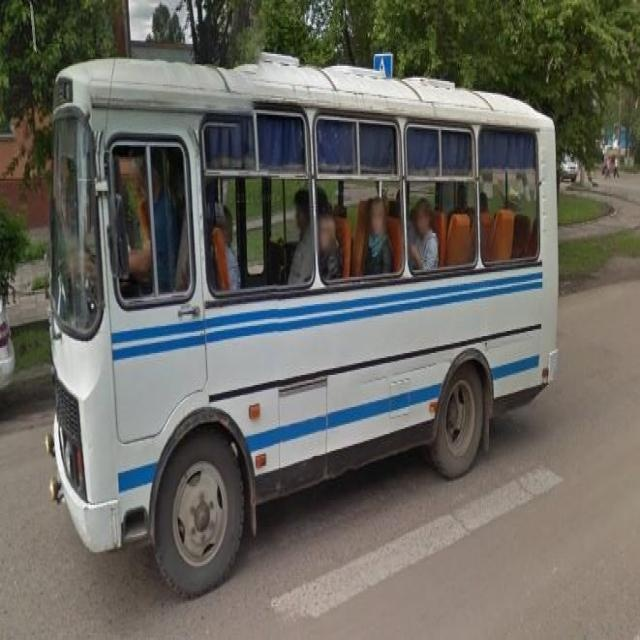Bus: (35, 36, 568, 610)
